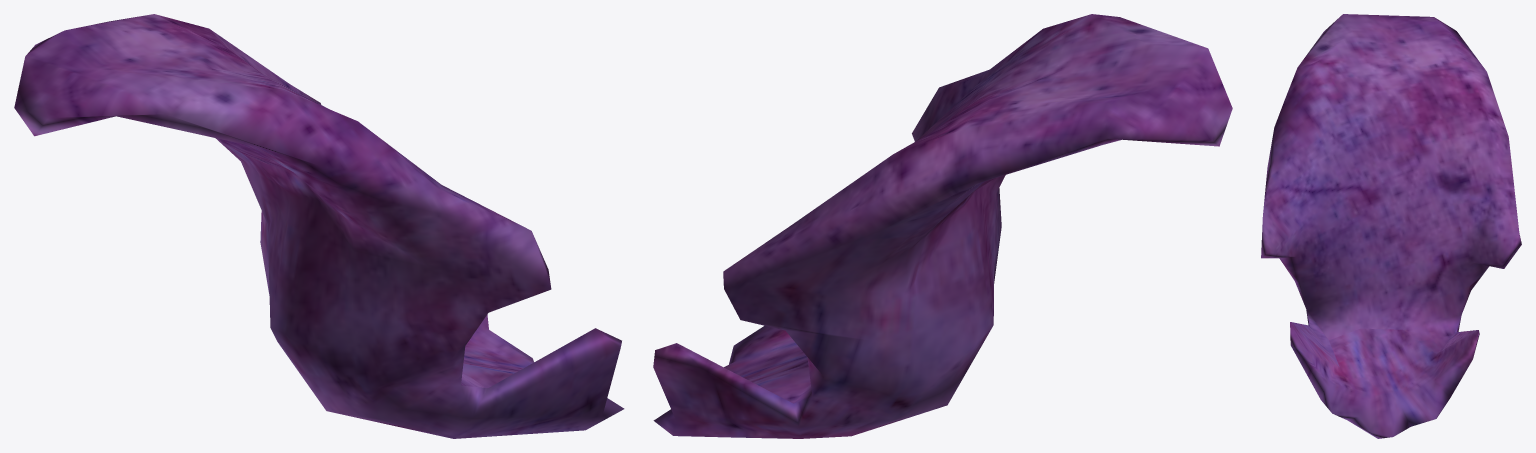
The model's file is Epiglottis_Laryngeal_Catilage.glb.
3 views of the same model, side by side, from view 1: azimuth 30°, elevation 25°; view 2: azimuth 150°, elevation 25°; view 3: azimuth 270°, elevation 25° (orthographic). The views are drawn at different scales.
Parts seen in each view (by area): view 1: Epiglottis_Laryngeal_Cartilage; view 2: Epiglottis_Laryngeal_Cartilage; view 3: Epiglottis_Laryngeal_Cartilage.
Boxes of the visible parts, x1,y1,x2,y2 form: Epiglottis_Laryngeal_Cartilage: [14, 14, 624, 438]; Epiglottis_Laryngeal_Cartilage: [653, 14, 1232, 438]; Epiglottis_Laryngeal_Cartilage: [1261, 14, 1521, 438].
Bounding box in the file's own units: 0.0547 × 0.0443 × 0.037.
Materials: 1 (1 with a texture image).
